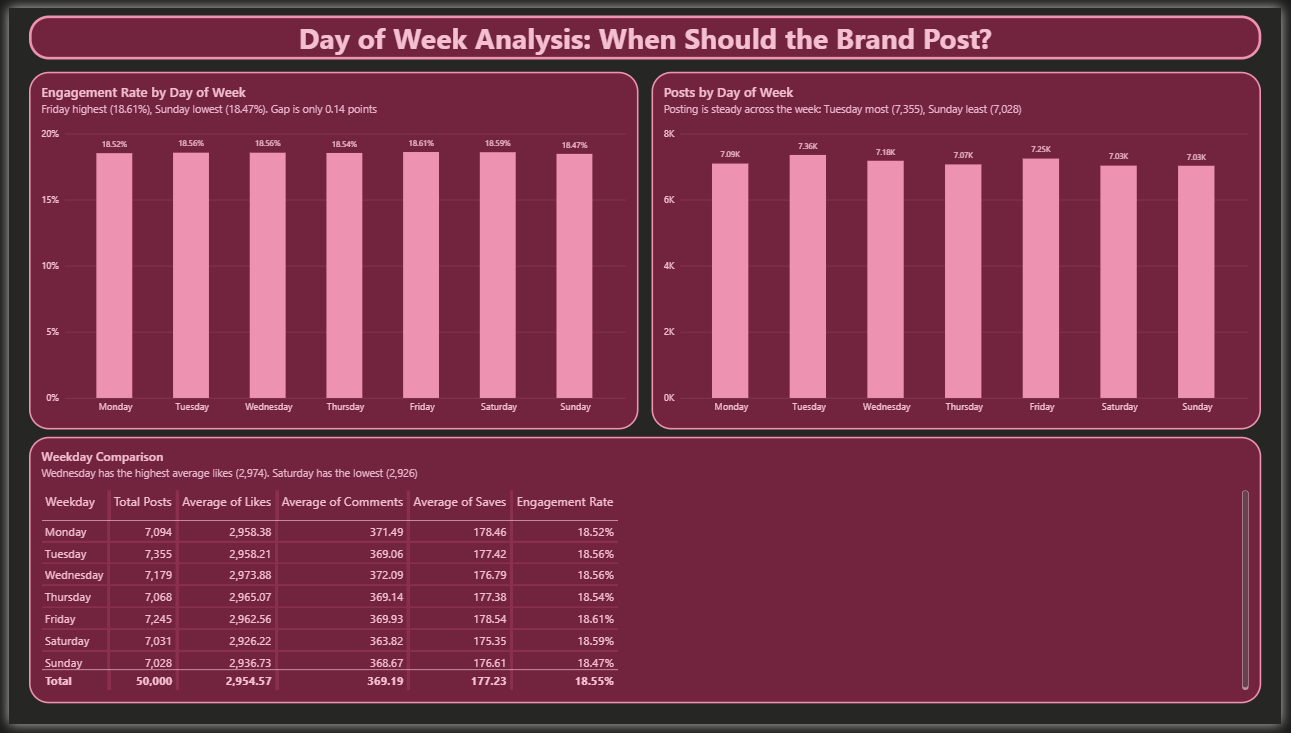

Layout of this report page (visuals, bound fields, positions):
{"tool":"powerbi","page":{"name":"Day of Week Analysis","canvas":[1920,1080],"ordinal":3},"visuals":[{"type":"clusteredColumnChart","title":"Engagement Rate by Day of Week","fields":{"Category":["Posts.Weekday"],"Y":["Posts.Engagement Rate"]},"box":[30,96,920,540],"z":0},{"type":"clusteredColumnChart","title":"Posts by Day of Week","fields":{"Category":["Posts.Weekday"],"Y":["Posts.Total Posts"]},"box":[970,96,920,540],"z":1000},{"type":"tableEx","title":"Weekday Comparison","fields":{"Values":["Posts.Weekday","Posts.Total Posts","Avg(Posts.Likes)","Avg(Posts.Comments)","Avg(Posts.Saves)","Posts.Engagement Rate"]},"box":[30,648,1860,402],"z":2000},{"type":"textbox","box":[30,12,1860,66],"z":3000}]}

Visuals, with their boxes in screenshot pixels (x1, y1, x2, y2), scaled from the page's 1920x1080 canvas onto the 1291x733 screenshot:
"Engagement Rate by Day of Week" clusteredColumnChart: [left=20, top=65, right=639, bottom=432]
"Posts by Day of Week" clusteredColumnChart: [left=652, top=65, right=1271, bottom=432]
"Weekday Comparison" tableEx: [left=20, top=440, right=1271, bottom=713]
textbox: [left=20, top=8, right=1271, bottom=53]
